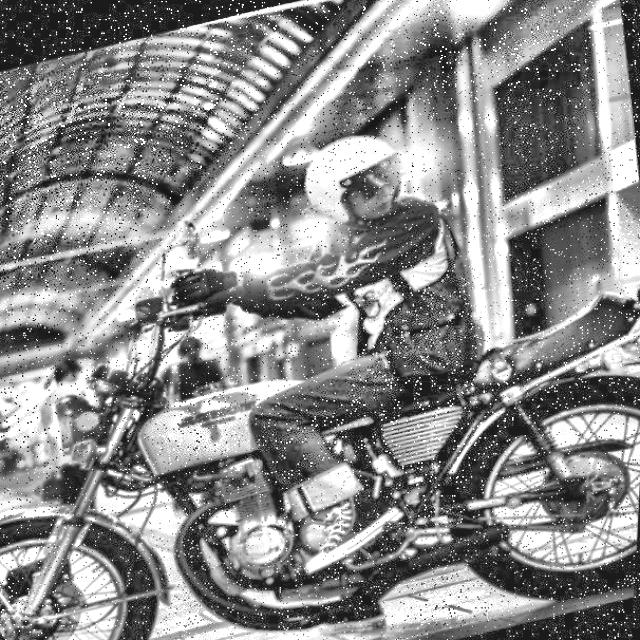Helmet: (294, 116, 422, 234)
